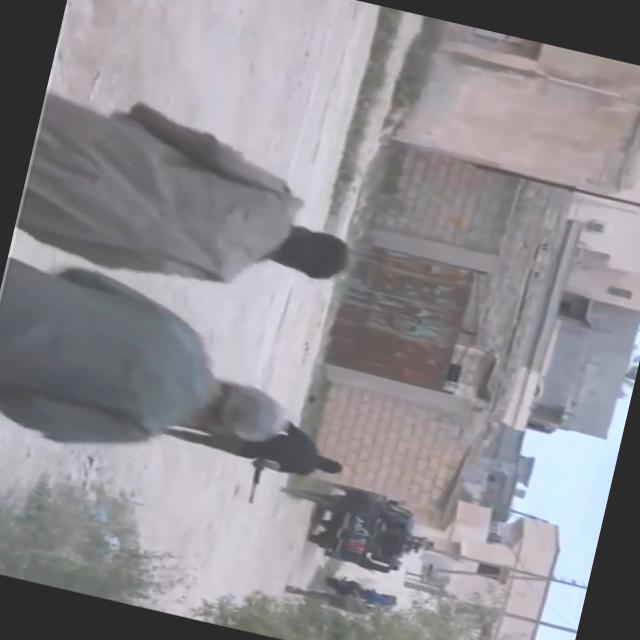long weapon: (238, 447, 275, 509)
